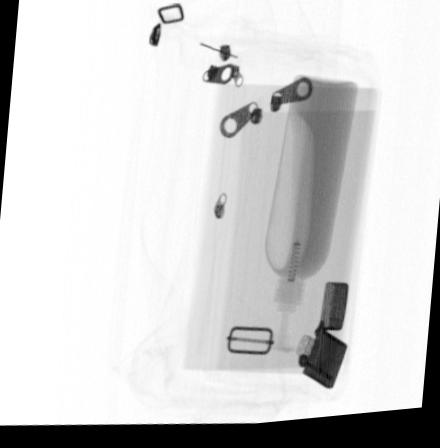Lighter: (294, 288, 348, 396)
